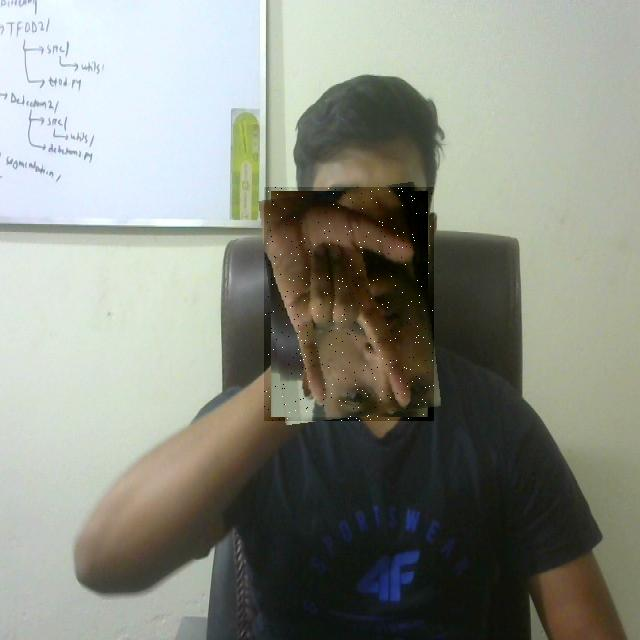IloveYou: (264, 187, 434, 421)
